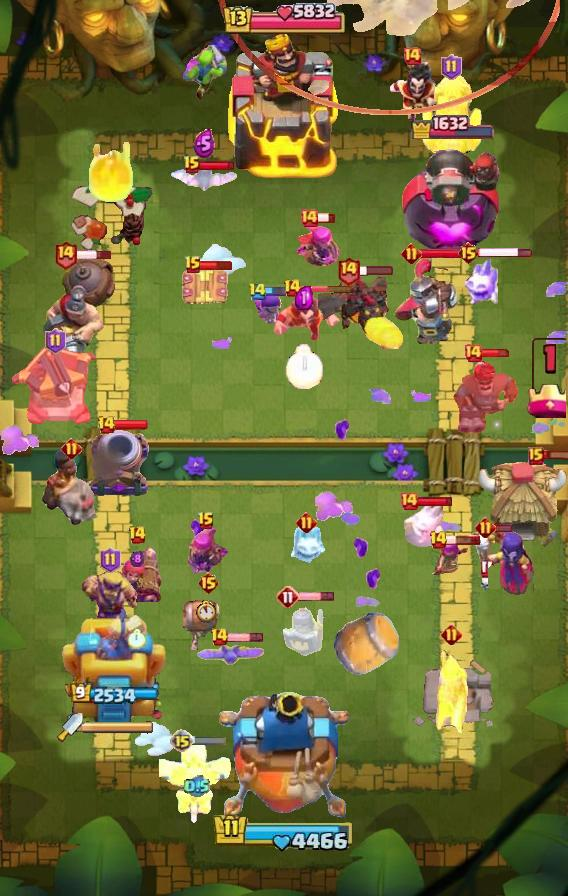archer: (429, 539, 469, 579)
archer-evolution: (291, 217, 355, 272), (182, 521, 230, 577)
bar: (478, 246, 533, 259), (419, 247, 470, 260), (299, 284, 353, 293), (76, 249, 113, 261), (445, 534, 481, 546), (113, 419, 149, 431), (358, 264, 394, 276), (227, 632, 264, 643), (298, 591, 335, 602), (417, 496, 454, 507), (199, 160, 236, 171), (264, 286, 300, 297), (192, 735, 227, 746), (199, 260, 233, 271), (480, 348, 512, 358), (541, 450, 568, 461), (316, 212, 336, 224), (494, 523, 513, 533)
bar-level: (336, 255, 361, 286), (53, 239, 78, 270), (170, 729, 194, 753), (276, 585, 300, 609), (197, 571, 220, 595), (457, 241, 480, 265), (100, 547, 121, 573), (45, 328, 66, 354), (441, 54, 462, 80), (441, 624, 462, 645), (475, 517, 496, 538), (296, 512, 317, 533), (61, 438, 82, 459), (401, 243, 422, 264), (399, 491, 419, 511), (463, 343, 483, 363), (299, 208, 319, 228), (402, 46, 422, 66), (210, 627, 229, 647), (429, 530, 448, 550), (128, 525, 147, 545), (97, 415, 116, 435), (283, 278, 302, 298), (248, 282, 267, 301), (197, 511, 215, 531), (184, 255, 202, 275), (183, 155, 201, 175), (528, 447, 544, 465)
barbarian-evolution: (79, 568, 141, 630)
bat-evolution: (169, 165, 239, 195), (194, 642, 268, 668)
cannoneer-tower: (401, 138, 505, 256)
clock: (285, 344, 323, 389), (195, 600, 217, 623), (128, 629, 146, 649)
dagger-duchess-tower: (62, 601, 166, 731)
dagger-duchess-tower-bar: (83, 720, 155, 734)
electro-wizard: (267, 288, 341, 346), (383, 62, 441, 126)
elixir: (193, 129, 215, 158), (184, 775, 210, 798), (295, 286, 313, 310), (130, 550, 144, 568)
firecracker-evolution: (109, 540, 165, 602)
goblin: (183, 45, 229, 101)
guard: (281, 600, 327, 658)
hunter: (451, 358, 521, 436)
ice-spirit: (402, 501, 446, 547), (284, 526, 328, 566)
ice-spirit-evolution: (461, 256, 501, 308)
king-tower: (219, 692, 349, 826), (226, 33, 342, 181)
king-tower-bar: (212, 812, 356, 854), (221, 0, 347, 40)
mortar-evolution: (88, 429, 152, 499)
musketeer: (432, 648, 470, 746)
ram-rider: (41, 450, 101, 526)
skeleton-evolution: (254, 288, 283, 326)
tesla: (420, 69, 482, 153), (181, 266, 229, 308)
tower-bar: (410, 112, 496, 139), (70, 683, 159, 706)
wall-breaker: (183, 599, 233, 653)
witch: (466, 528, 534, 596)
